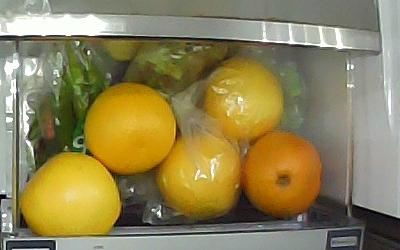grapefruit: (19, 151, 122, 236), (83, 81, 176, 173), (244, 130, 324, 218)
grapefruit_vinyl: (154, 132, 241, 218), (205, 57, 284, 138)
